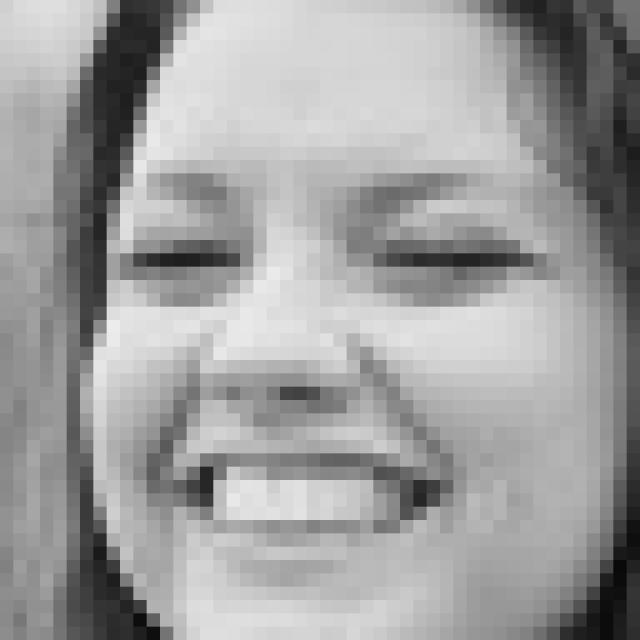happy: (112, 133, 565, 590)
